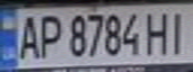4: (121, 9, 145, 56)
7: (84, 10, 106, 57)
8: (63, 10, 87, 57), (103, 10, 127, 56)
A: (12, 11, 42, 61)
H: (142, 8, 175, 56)
I: (163, 8, 193, 55)
P: (33, 11, 63, 60)
